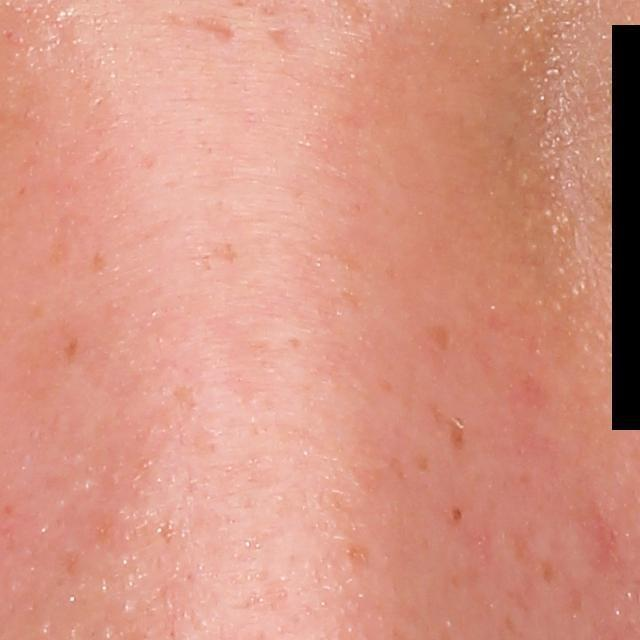atrophic_scar: (162, 10, 241, 48), (266, 26, 302, 58)
melasma: (418, 322, 457, 357), (443, 414, 474, 455), (343, 539, 374, 568), (215, 242, 245, 267), (61, 330, 84, 359), (91, 241, 108, 276), (539, 555, 558, 584), (447, 504, 466, 524), (415, 452, 431, 474)
